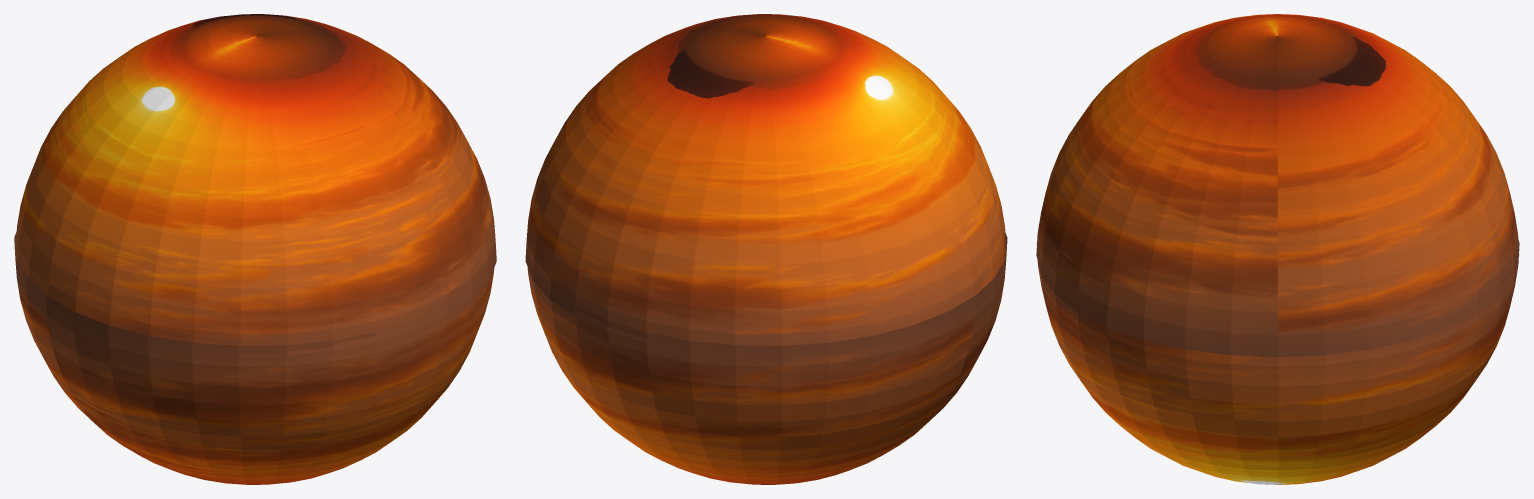
The model's file is Dome3.fbx.
3 renders of one model, left to right at view 1: azimuth 30°, elevation 25°; view 2: azimuth 150°, elevation 25°; view 3: azimuth 270°, elevation 25°, orthographic.
Visible parts, largest first — view 1: skydome_hemisphere.003, skydome_hemisphere; view 2: skydome_hemisphere.003, skydome_hemisphere; view 3: skydome_hemisphere.003, skydome_hemisphere.
Boxes of the visible parts, left/top/right/bottom form: skydome_hemisphere.003: left=16, top=14, right=496, bottom=356; skydome_hemisphere: left=14, top=232, right=494, bottom=484; skydome_hemisphere.003: left=525, top=14, right=1006, bottom=350; skydome_hemisphere: left=527, top=233, right=1007, bottom=484; skydome_hemisphere.003: left=1036, top=14, right=1519, bottom=357; skydome_hemisphere: left=1036, top=239, right=1519, bottom=484.
Bounding box in the file's own units: 20070 × 19514 × 20014.
Materials: 3 (3 with a texture image).
